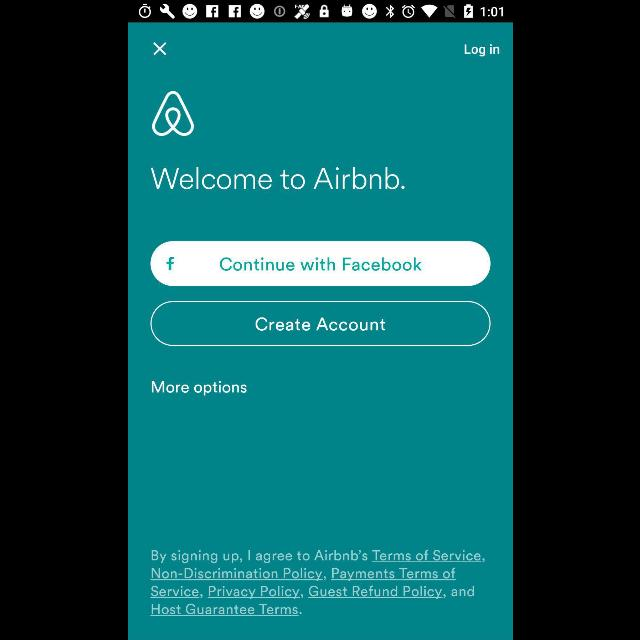icon: (152, 42, 166, 56)
image: (151, 92, 193, 136)
text: (150, 550, 484, 616), (150, 167, 404, 189), (152, 380, 246, 396), (464, 45, 498, 57)
textbutton: (150, 302, 490, 346), (150, 242, 490, 286)
uppertaskbar: (128, 1, 512, 23)
